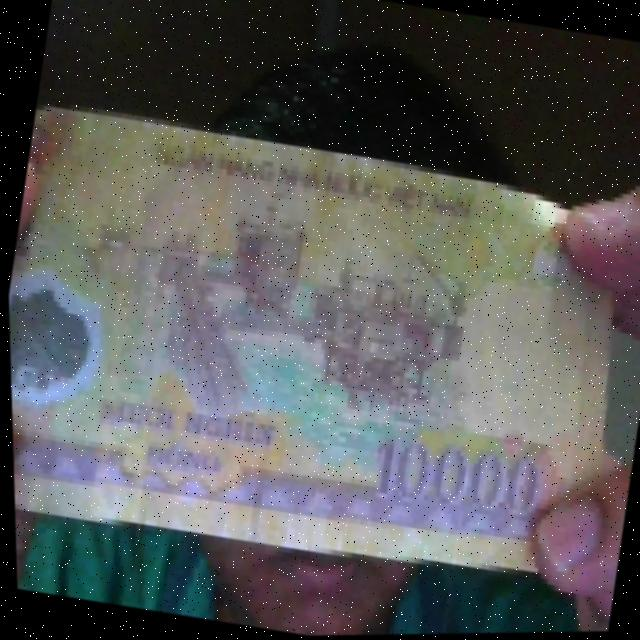10 000 VND: (2, 83, 640, 609)
